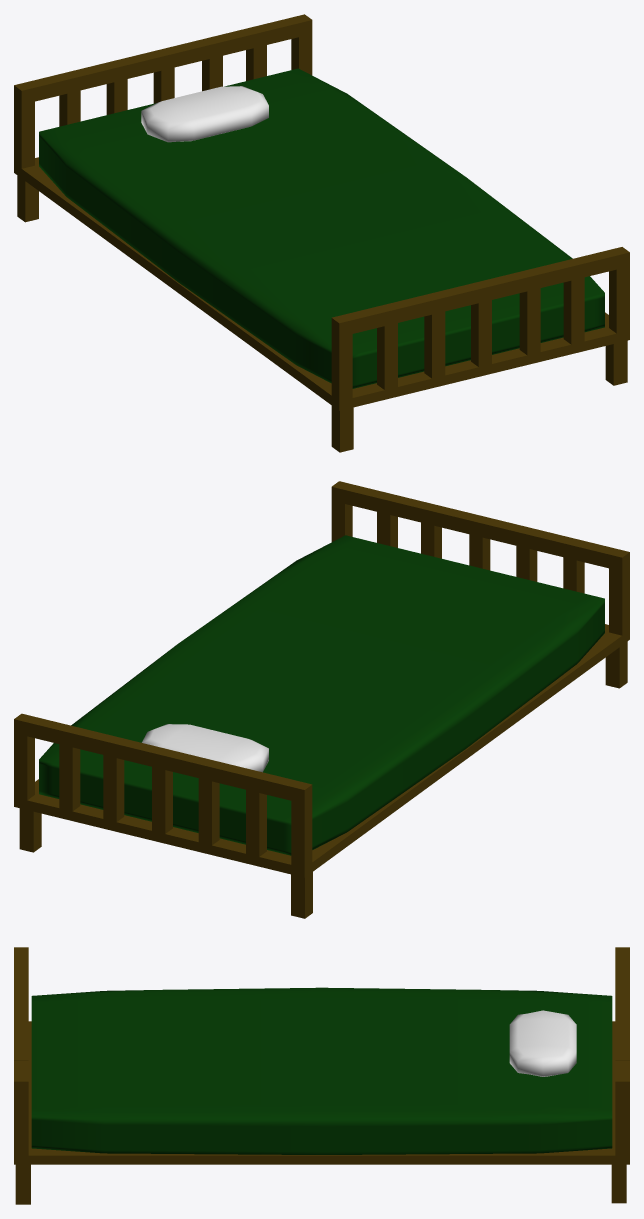
Rendered from PrisonBed.fbx.
3 renders of one model, top to bottom at view 1: azimuth 30°, elevation 25°; view 2: azimuth 150°, elevation 25°; view 3: azimuth 270°, elevation 25°, orthographic. The views are drawn at different scales.
Visible parts, largest first — view 1: pCube18; view 2: pCube18; view 3: pCube18.
Boxes of the visible parts, x1,y1,x2,y2 form: pCube18: (14,14,629,452); pCube18: (14,481,629,918); pCube18: (14,947,629,1204).
Bounding box in the file's own units: 12.43 × 5.32 × 24.08.
